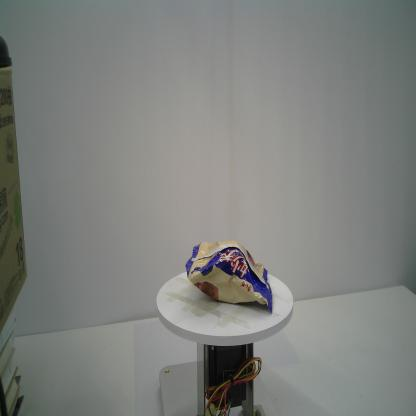Dessert: (184, 241, 274, 314)
